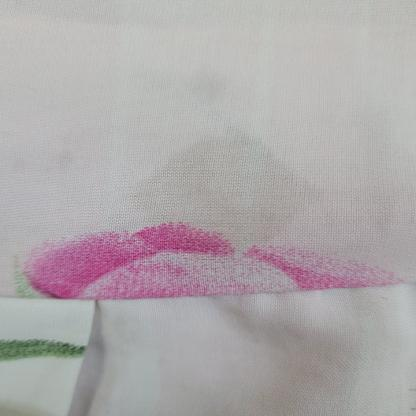spot: (139, 128, 316, 260), (179, 72, 234, 100)
